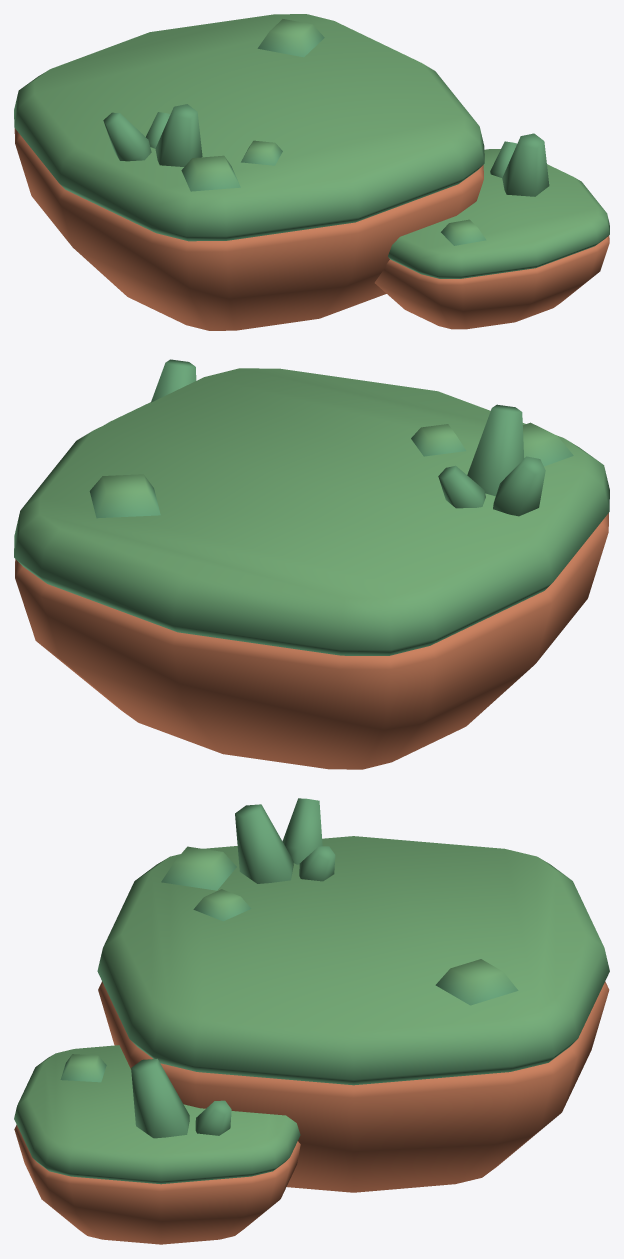
Rendered from platform.glb.
The picture shows the model from 3 angles, top to bottom: view 1: azimuth 30°, elevation 25°; view 2: azimuth 150°, elevation 25°; view 3: azimuth 270°, elevation 25°; orthographic projection. The views are drawn at different scales.
Parts seen in each view (by area): view 1: platform; view 2: platform; view 3: platform.
Boxes of the visible parts, x1,y1,x2,y2 form: platform: [14, 14, 609, 330]; platform: [14, 359, 609, 769]; platform: [14, 798, 609, 1244].
Bounding box in the file's own units: 1 × 0.4696 × 1.
